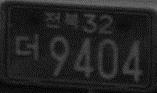0: (96, 37, 119, 79)
2: (98, 14, 115, 36)
3: (81, 12, 97, 34)
4: (119, 40, 144, 82), (72, 37, 94, 78)
9: (48, 35, 70, 77)
더: (13, 31, 41, 62)
전북_O: (44, 10, 80, 32)
